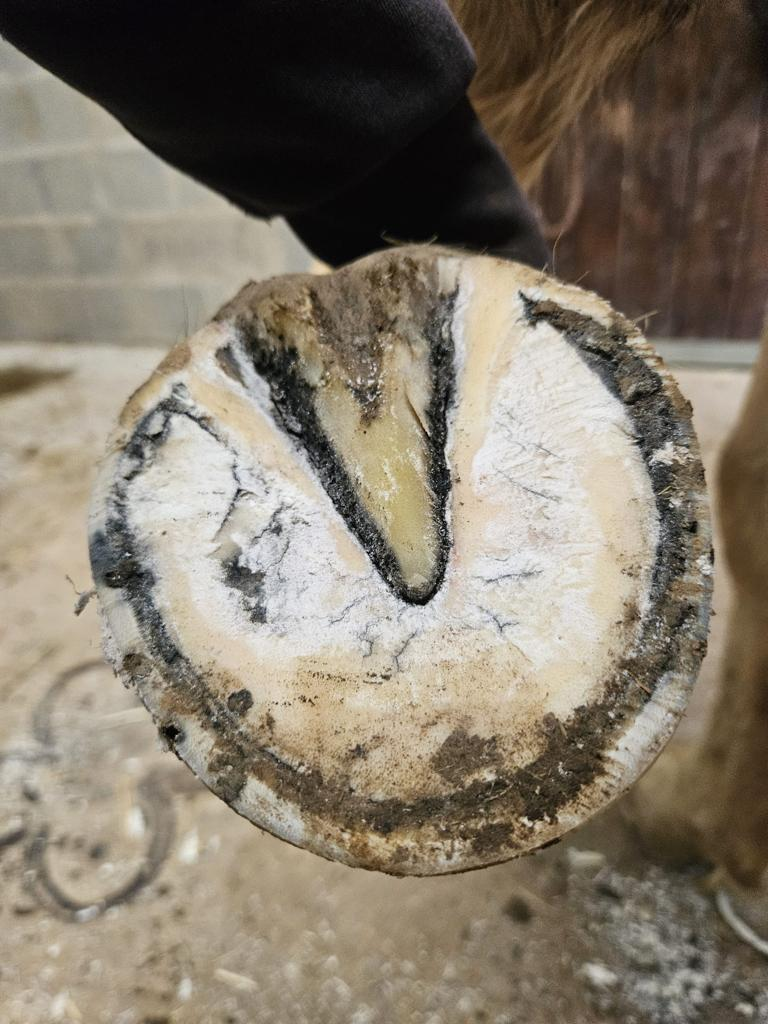horsesole: (85, 251, 717, 879)
